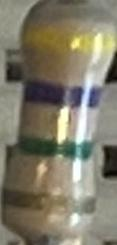Blue: (22, 76, 104, 111)
Green: (13, 135, 96, 163)
Side-Silver: (20, 23, 117, 59), (1, 187, 97, 218)
